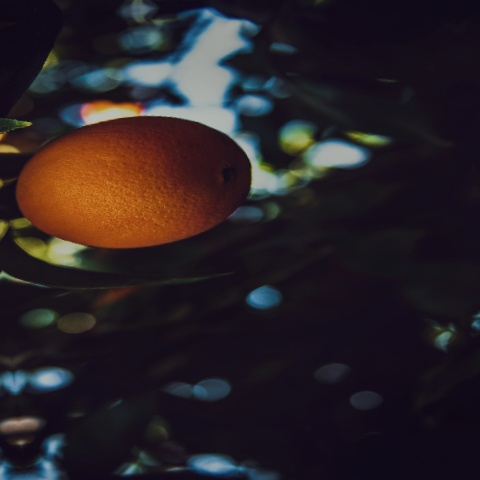orange: (2, 77, 269, 274)
